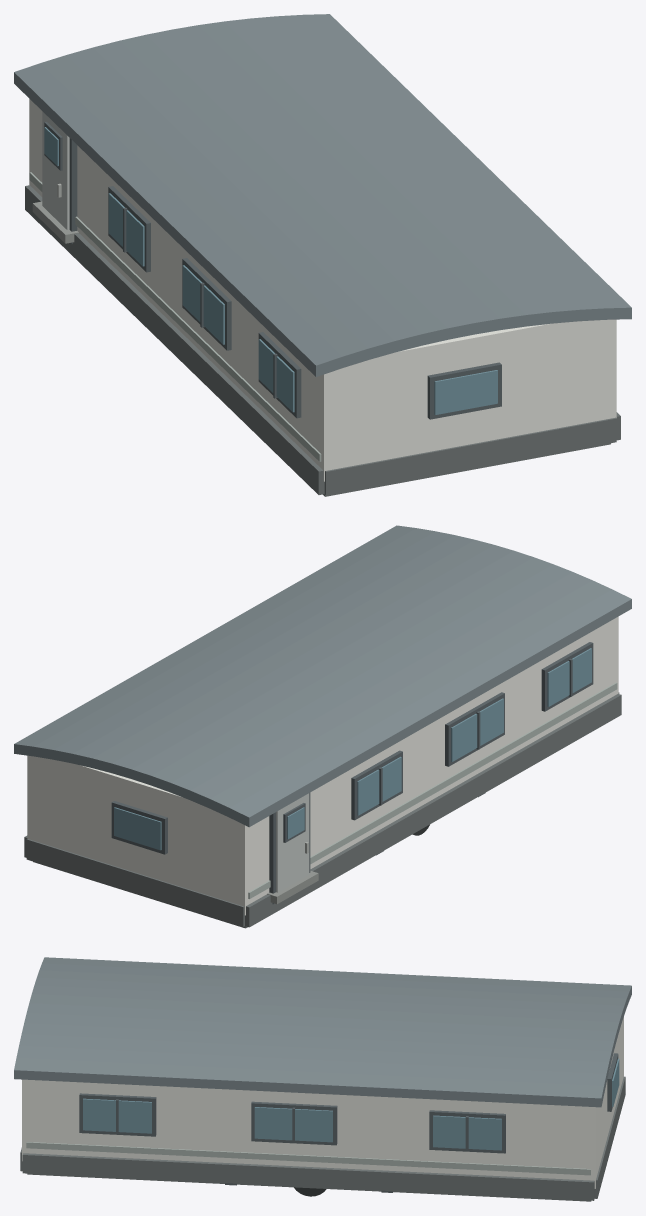
3 views of the same model, one above another, from view 1: azimuth 30°, elevation 25°; view 2: azimuth 150°, elevation 25°; view 3: azimuth 270°, elevation 25° (orthographic). The views are drawn at different scales.
Parts seen in each view (by area): view 1: shallow_crowned_roof, main_caravan_body, lower_side_skirt_positive, lower_end_skirt_negative, side_stripe_positive, rear_end_window_glass, entrance_door_panel, positive_side_window_2_glass, positive_side_window_1_glass, positive_side_window_3_glass, rear_end_window_frame, positive_side_window_2_frame (+3 smaller); view 2: shallow_crowned_roof, main_caravan_body, lower_side_skirt_positive, lower_end_skirt_positive, side_stripe_positive, entrance_door_panel, positive_side_window_2_glass, positive_side_window_3_glass, positive_side_window_1_glass, front_end_window_glass, front_end_window_frame, positive_side_window_2_frame (+4 smaller); view 3: shallow_crowned_roof, main_caravan_body, lower_side_skirt_negative, side_stripe_negative, negative_side_window_2_glass, negative_side_window_3_glass, negative_side_window_1_glass, negative_side_window_2_frame, negative_side_window_1_frame, negative_side_window_3_frame, underframe_main, lower_end_skirt_positive.
Part boxes in pixels (left/top/right/bottom): shallow_crowned_roof: left=14, top=14, right=631, bottom=376; main_caravan_body: left=29, top=99, right=616, bottom=481; lower_side_skirt_positive: left=25, top=185, right=324, bottom=494; lower_end_skirt_negative: left=324, top=417, right=616, bottom=495; side_stripe_positive: left=29, top=172, right=321, bottom=461; rear_end_window_glass: left=434, top=370, right=497, bottom=414; entrance_door_panel: left=42, top=111, right=69, bottom=229; positive_side_window_2_glass: left=182, top=265, right=224, bottom=344; positive_side_window_1_glass: left=258, top=339, right=294, bottom=412; positive_side_window_3_glass: left=108, top=193, right=144, bottom=266; rear_end_window_frame: left=427, top=362, right=501, bottom=419; positive_side_window_2_frame: left=182, top=258, right=231, bottom=350; shallow_crowned_roof: left=14, top=525, right=631, bottom=827; main_caravan_body: left=27, top=616, right=618, bottom=915; lower_side_skirt_positive: left=245, top=694, right=621, bottom=927; lower_end_skirt_positive: left=26, top=839, right=244, bottom=926; side_stripe_positive: left=248, top=682, right=617, bottom=898; entrance_door_panel: left=276, top=793, right=309, bottom=892; positive_side_window_2_glass: left=451, top=698, right=503, bottom=761; positive_side_window_3_glass: left=357, top=756, right=401, bottom=815; positive_side_window_1_glass: left=547, top=648, right=591, bottom=706; front_end_window_glass: left=114, top=807, right=161, bottom=850; front_end_window_frame: left=111, top=801, right=167, bottom=854; positive_side_window_2_frame: left=445, top=692, right=504, bottom=766; shallow_crowned_roof: left=14, top=957, right=631, bottom=1107; main_caravan_body: left=22, top=1017, right=623, bottom=1188; lower_side_skirt_negative: left=22, top=1153, right=594, bottom=1200; side_stripe_negative: left=26, top=1142, right=590, bottom=1175; negative_side_window_2_glass: left=254, top=1107, right=332, bottom=1142; negative_side_window_3_glass: left=433, top=1115, right=501, bottom=1150; negative_side_window_1_glass: left=83, top=1098, right=151, bottom=1133; negative_side_window_2_frame: left=251, top=1101, right=337, bottom=1145; negative_side_window_1_frame: left=79, top=1093, right=156, bottom=1136; negative_side_window_3_frame: left=429, top=1110, right=505, bottom=1153; underframe_main: left=27, top=1173, right=591, bottom=1201; lower_end_skirt_positive: left=594, top=1076, right=625, bottom=1198.
Bounding box in the file's own units: 5.74 × 2.5 × 10.62.
